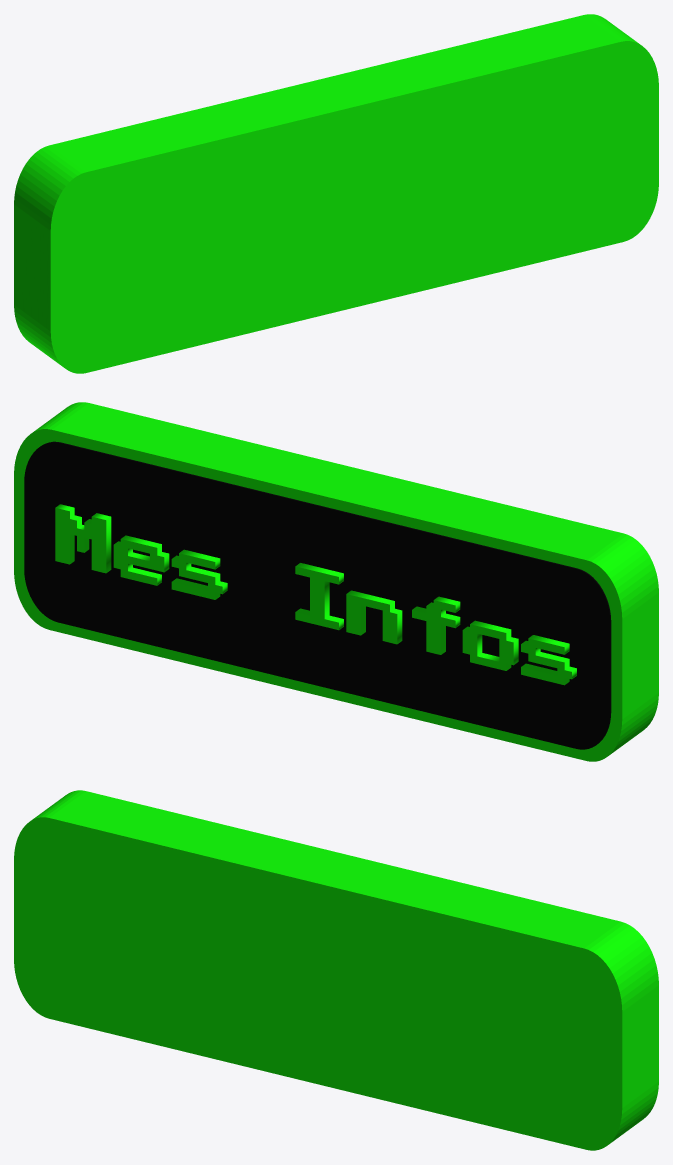
The model's file is btn-infos.glb.
The picture shows the model from 3 angles, top to bottom: view 1: azimuth 30°, elevation 25°; view 2: azimuth 150°, elevation 25°; view 3: azimuth 330°, elevation 25°; orthographic projection.
Visible parts, largest first — view 1: Cube.005; view 2: Cube.004, Cube.005, Text.002; view 3: Cube.005.
Part boxes in pixels (x1,y1,x2,y2): Cube.005: (14,14,658,373); Cube.004: (24,441,611,749); Cube.005: (14,402,658,761); Text.002: (55,504,576,685); Cube.005: (14,790,658,1150).
Size of the model in its own units: 7.07 by 2.23 by 0.8565.
